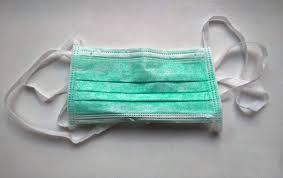Mask: (5, 16, 267, 142), (67, 45, 221, 128)
